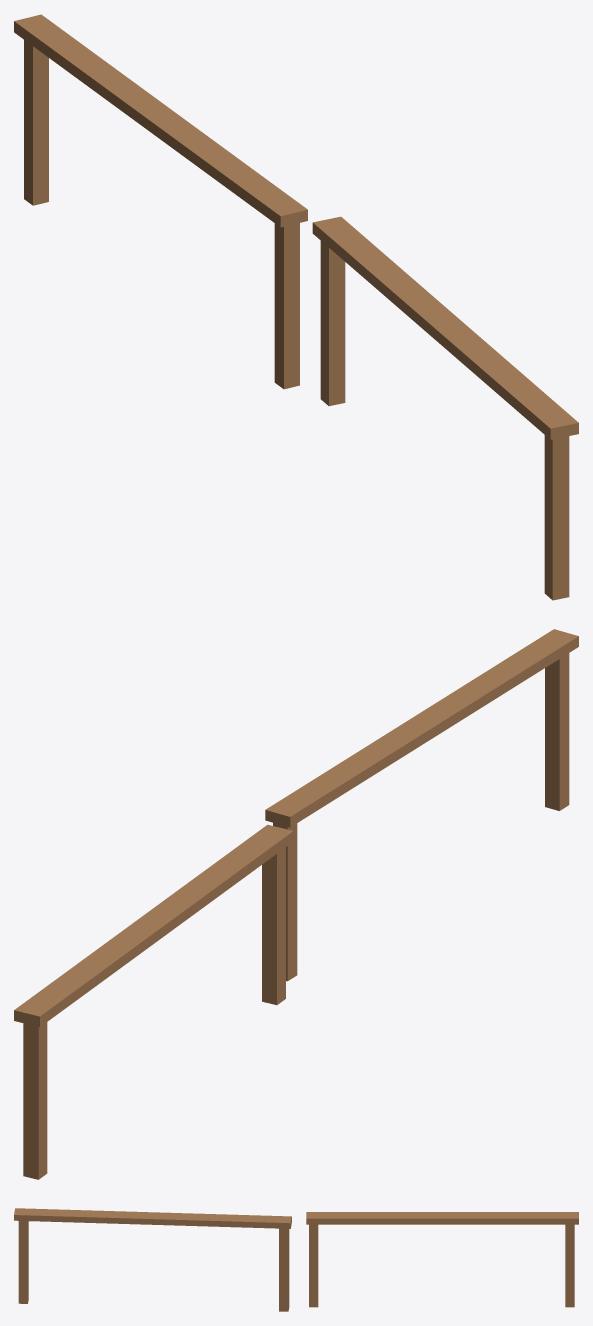
File: SM_fence_106b.gltf
3 views of the same model, one above another, from view 1: azimuth 30°, elevation 25°; view 2: azimuth 150°, elevation 25°; view 3: azimuth 270°, elevation 25° (orthographic). The views are drawn at different scales.
Visible parts, largest first — view 1: SM_fence_106b; view 2: SM_fence_106b; view 3: SM_fence_106b.
Boxes of the visible parts, left/top/right/bottom form: SM_fence_106b: left=14, top=14, right=578, bottom=600; SM_fence_106b: left=14, top=629, right=578, bottom=1179; SM_fence_106b: left=14, top=1208, right=578, bottom=1311.
Size of the model in its own units: 0.376 by 1.05 by 5.97.
1 material, 1 textured.
